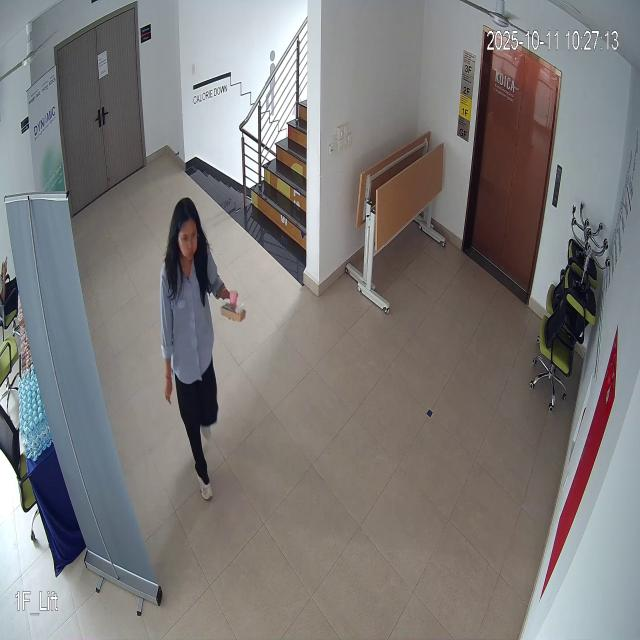face: (168, 194, 206, 272)
